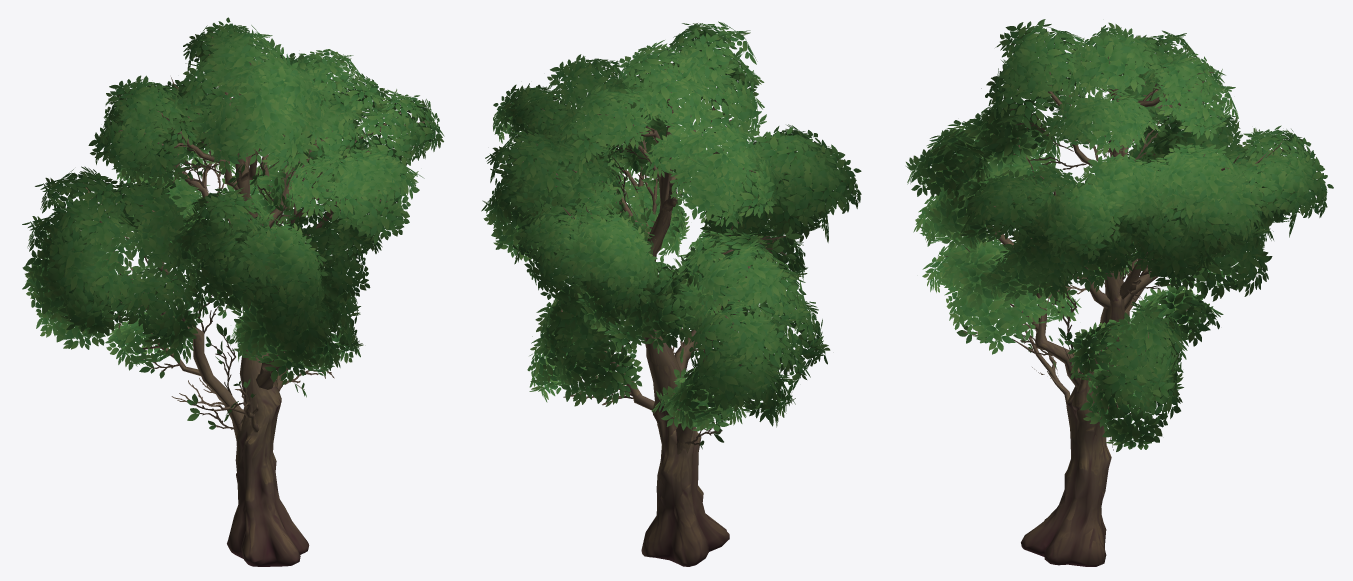
File: SM_FW01_Tree_B_05.fbx
3 views of the same model, side by side, from view 1: azimuth 30°, elevation 25°; view 2: azimuth 150°, elevation 25°; view 3: azimuth 270°, elevation 25° (orthographic). The views are drawn at different scales.
Visible parts, largest first — view 1: SM_FW01_Tree_B_05_LOD0; view 2: SM_FW01_Tree_B_05_LOD0; view 3: SM_FW01_Tree_B_05_LOD0.
Part boxes in pixels (x1,y1,x2,y2): SM_FW01_Tree_B_05_LOD0: (22,17,444,566); SM_FW01_Tree_B_05_LOD0: (481,21,861,566); SM_FW01_Tree_B_05_LOD0: (906,19,1333,566).
Size of what is drawn, in the model's own units: 5.86 by 8.05 by 6.02.
